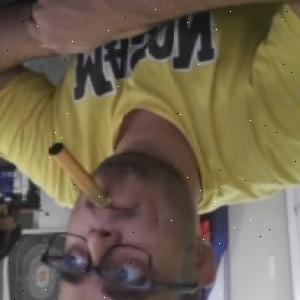Golden-E-Ciggirate: (46, 141, 106, 213)
